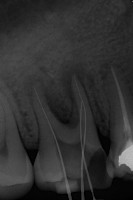Dental Caries: (43, 61, 95, 129), (23, 74, 45, 98)
Furcation Involvement: (99, 62, 112, 81)
